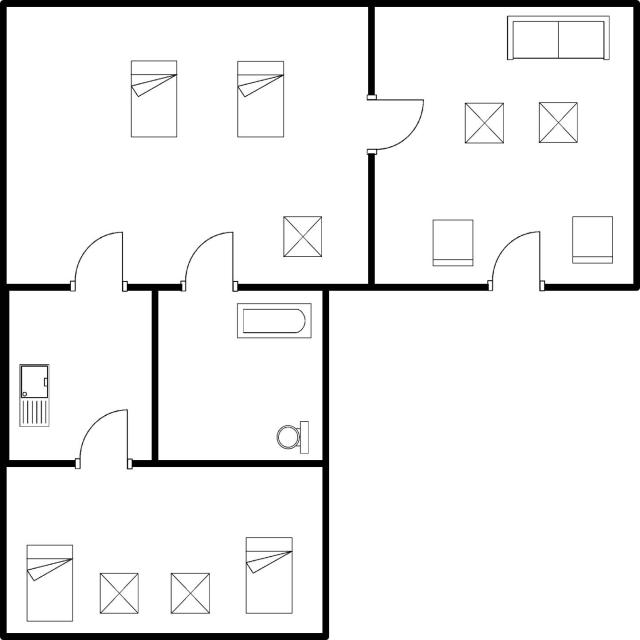bed: (19, 540, 79, 624), (232, 56, 289, 144), (125, 56, 182, 143), (240, 532, 296, 620)
coffee_table: (165, 567, 213, 620), (534, 97, 582, 149), (278, 210, 326, 261), (460, 99, 509, 148), (94, 570, 142, 620)
large_sink: (268, 414, 312, 456)
large_sofa: (500, 11, 612, 67)
sink: (15, 358, 55, 432)
small_sofa: (427, 214, 478, 270), (568, 213, 617, 269)
tub: (230, 297, 316, 343)
